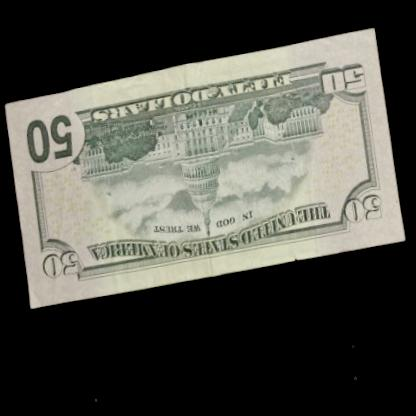fifty-back: (0, 28, 410, 314)
